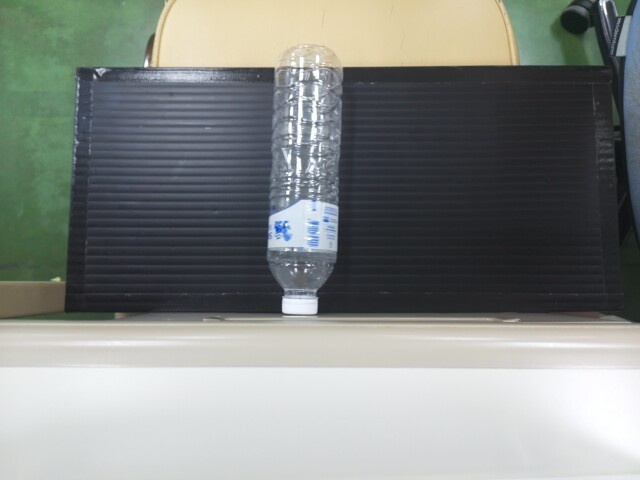plastic_bottle: (270, 47, 342, 305)
